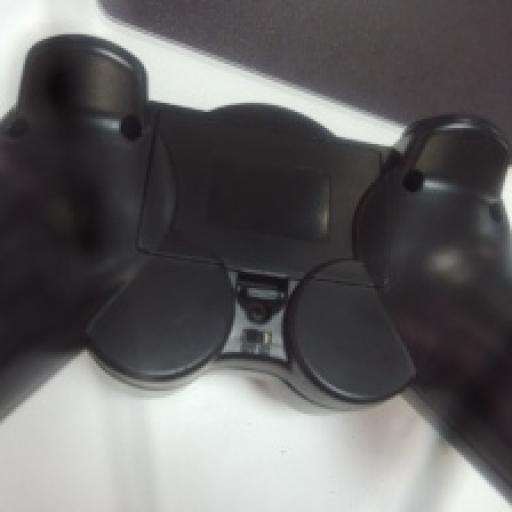game pad: (0, 37, 510, 485)
